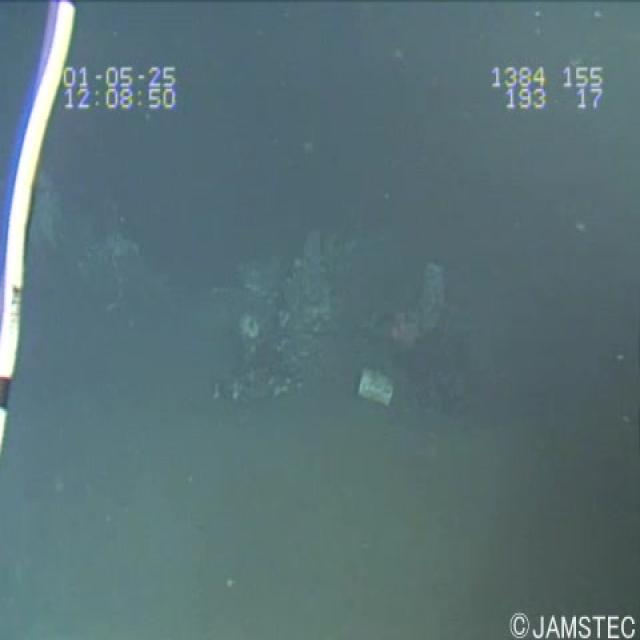plastic: (341, 356, 407, 414)
